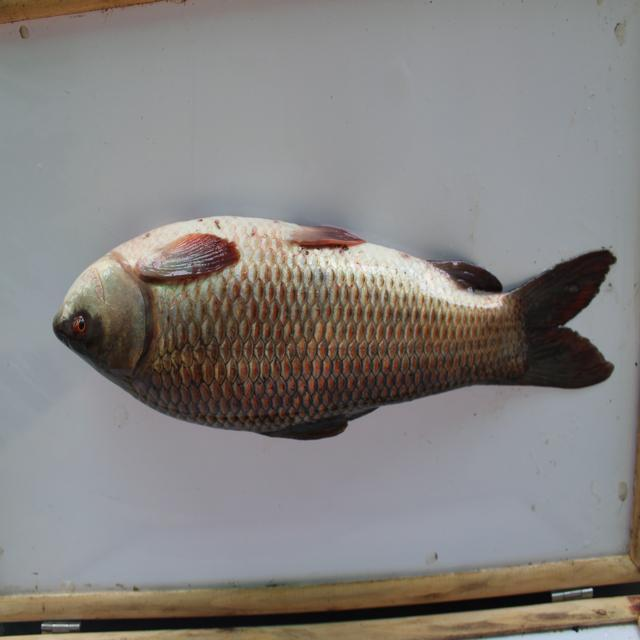Rohu: (50, 198, 622, 453)
